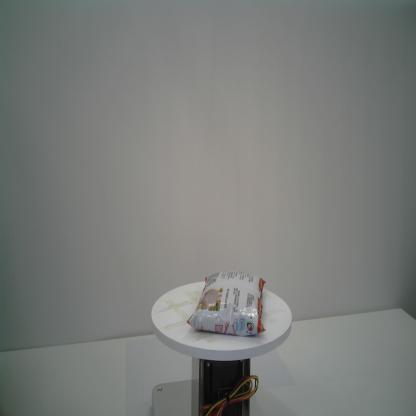Seasoner: (187, 270, 266, 338)
